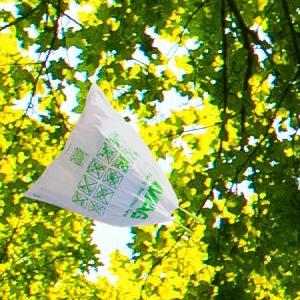plastic_bag: (21, 77, 208, 242)
